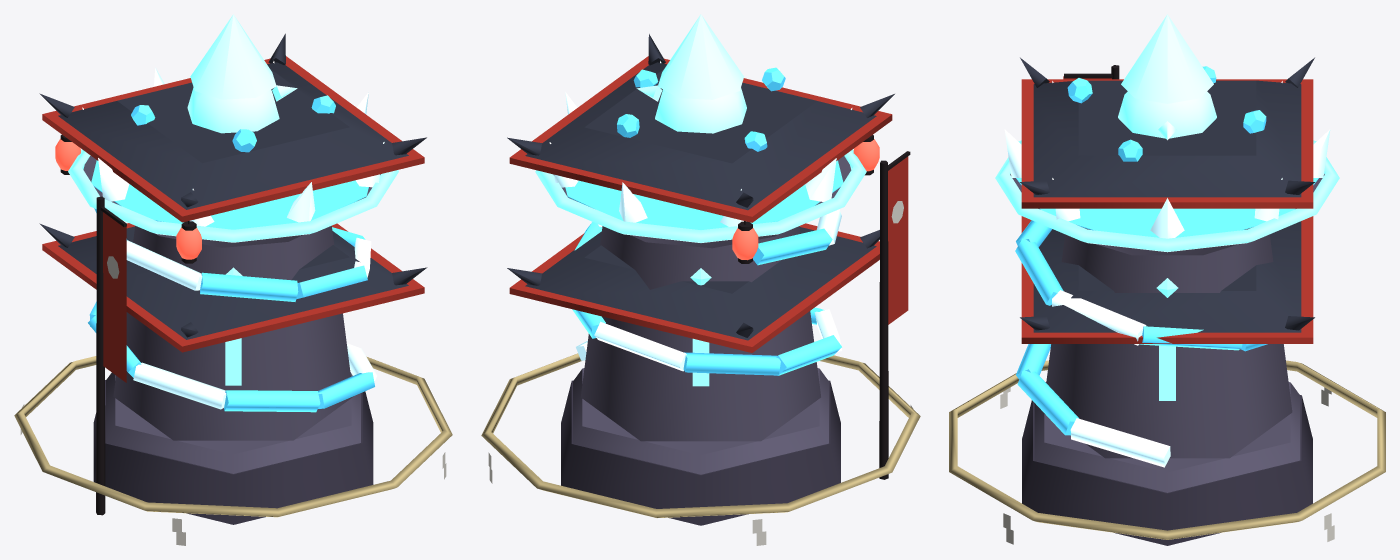
The model's file is tower_element_elementTide.glb.
3 views of the same model, side by side, from view 1: azimuth 30°, elevation 25°; view 2: azimuth 150°, elevation 25°; view 3: azimuth 270°, elevation 25° (orthographic). The views are drawn at different scales.
Visible parts, largest first — view 1: pillar, deco_eave_0_roof, base, deco_eave_1_roof, base_top, deco_eave_0_rim, deco_shimenawa_rope, deco_eave_1_rim, basin_rim, crystal_tip, basin_water, deco_nobori_cloth (+17 smaller); view 2: pillar, deco_eave_0_roof, deco_eave_1_roof, base, base_top, deco_shimenawa_rope, deco_eave_0_rim, deco_eave_1_rim, basin_rim, crystal_tip, basin_water, deco_nobori_cloth (+14 smaller); view 3: pillar, deco_eave_0_roof, base, deco_eave_1_roof, base_top, deco_shimenawa_rope, deco_eave_0_rim, basin_rim, deco_eave_1_rim, crystal_tip, basin_water, crystal (+14 smaller).
Boxes of the visible parts, x1,y1,x2,y2 form: pillar: (113,226,353,440); deco_eave_0_roof: (58,62,408,209); base: (93,380,373,524); deco_eave_1_roof: (58,226,408,339); base_top: (106,372,360,473); deco_eave_0_rim: (42,56,424,222); deco_shimenawa_rope: (14,356,452,517); deco_eave_1_rim: (42,223,424,352); basin_rim: (68,149,398,242); crystal_tip: (190,14,276,99); basin_water: (91,160,368,229); deco_nobori_cloth: (103,212,126,382); pillar: (581,226,820,441); deco_eave_0_roof: (525,62,876,210); deco_eave_1_roof: (525,227,876,340); base: (561,380,840,525); base_top: (573,368,828,474); deco_shimenawa_rope: (481,353,920,518); deco_eave_0_rim: (509,56,892,222); deco_eave_1_rim: (509,223,879,352); basin_rim: (535,149,866,242); crystal_tip: (658,14,743,99); basin_water: (565,160,843,229); deco_nobori_cloth: (888,156,908,324); pillar: (1042,234,1292,458); deco_eave_0_roof: (1033,80,1301,197); base: (1022,395,1312,545); deco_eave_1_roof: (1033,221,1301,332); base_top: (1034,382,1300,492); deco_shimenawa_rope: (949,360,1385,539); deco_eave_0_rim: (1021,79,1313,208); basin_rim: (995,140,1339,252); deco_eave_1_rim: (1021,216,1313,343); crystal_tip: (1121,14,1213,103); basin_water: (1016,178,1318,237); crystal: (1118,91,1216,138).
Bounding box in the file's own units: 0.5326 × 0.59 × 0.5066.
